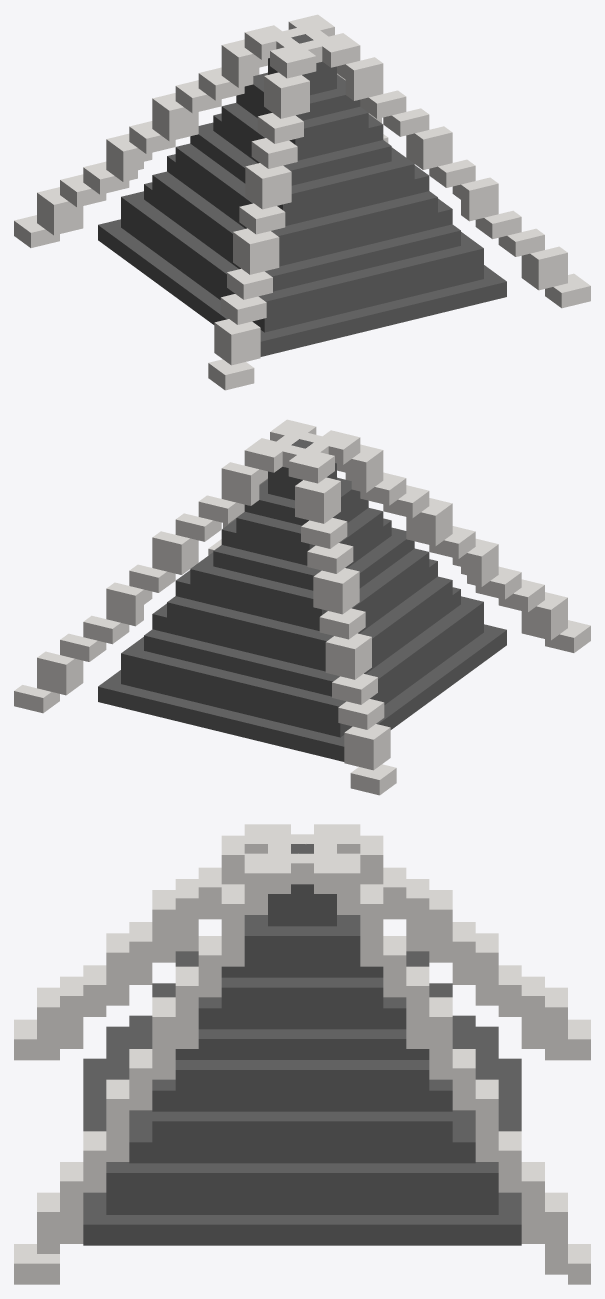
The model's file is eighthModelRoof.fbx.
3 renders of one model, top to bottom at view 1: azimuth 30°, elevation 25°; view 2: azimuth 150°, elevation 25°; view 3: azimuth 270°, elevation 25°, orthographic. The views are drawn at different scales.
Visible parts, largest first — view 1: Box; view 2: Box; view 3: Box.
Boxes of the visible parts, x1=… form: Box: x1=14, y1=14, x2=590, y2=390; Box: x1=14, y1=419, x2=590, y2=795; Box: x1=14, y1=824, x2=590, y2=1284.
Size of the model in its own units: 25 by 15 by 25.
1 material, 1 textured.
